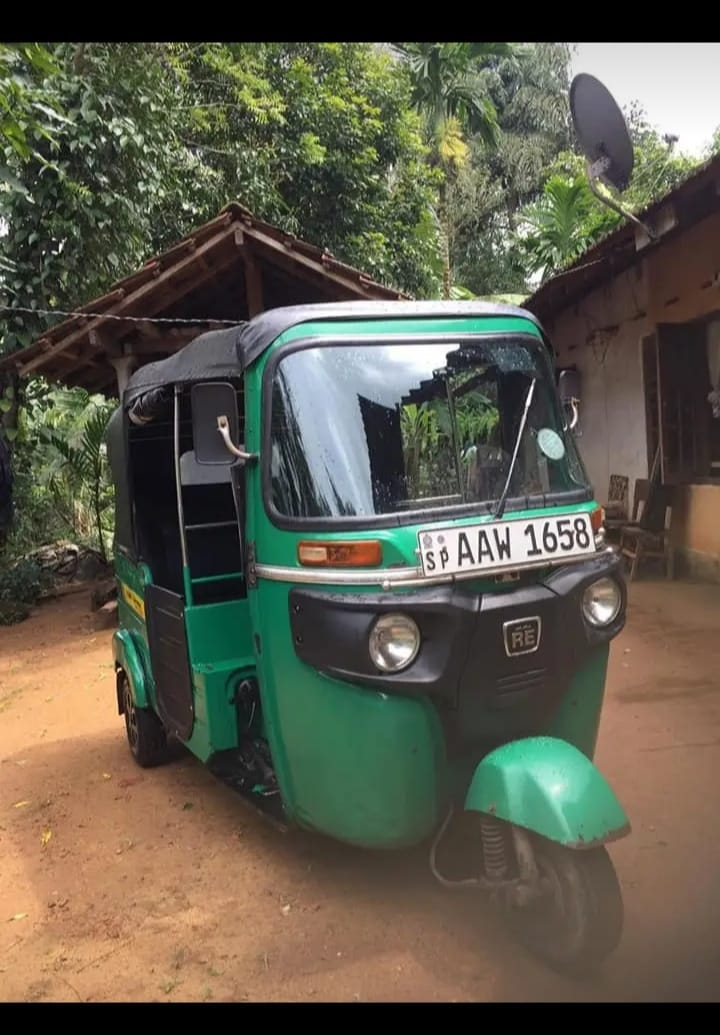number_plate: (420, 511, 595, 580)
